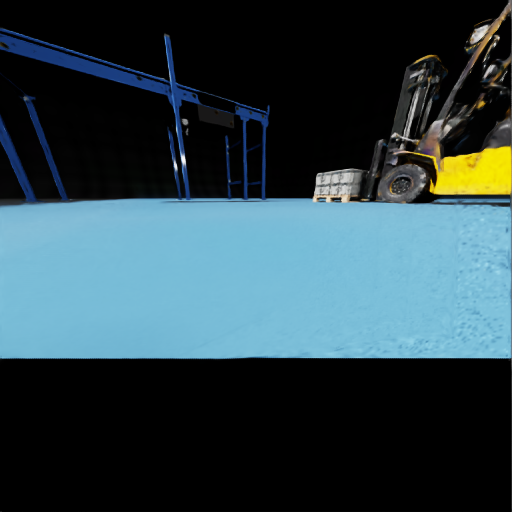transportation_area: (330, 182, 365, 194), (333, 196, 341, 197), (323, 172, 324, 174), (184, 94, 185, 95), (169, 89, 170, 90), (13, 44, 14, 45)
